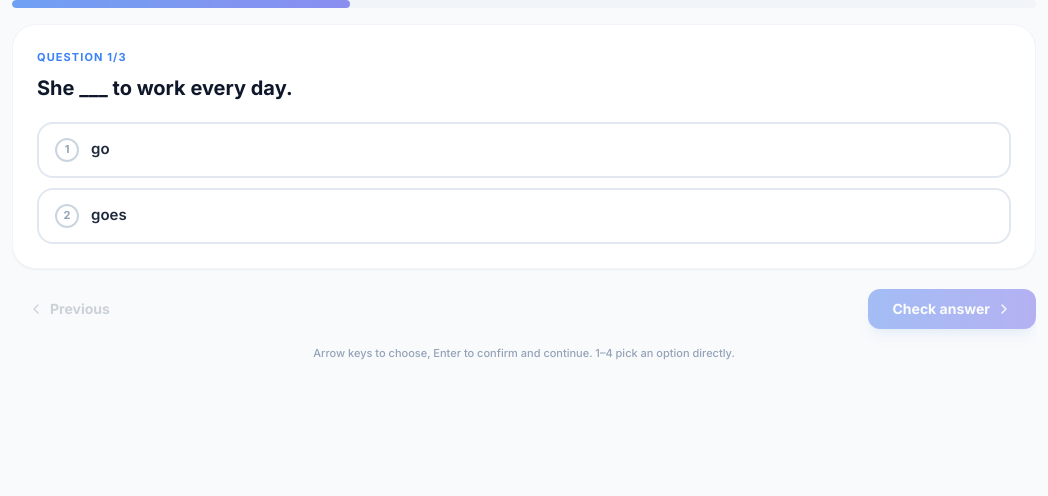
Test case: QuizStage — immediate feedback › grades one question at a time and reveals the authored explanation
Expected: the heading "She ___ to work every day." is shown, top-left (37, 76), bottom-right (293, 100)
Step 1. Click the radio button labelled "1 go" → (67, 150), box top-left (37, 122), bottom-right (1011, 178)
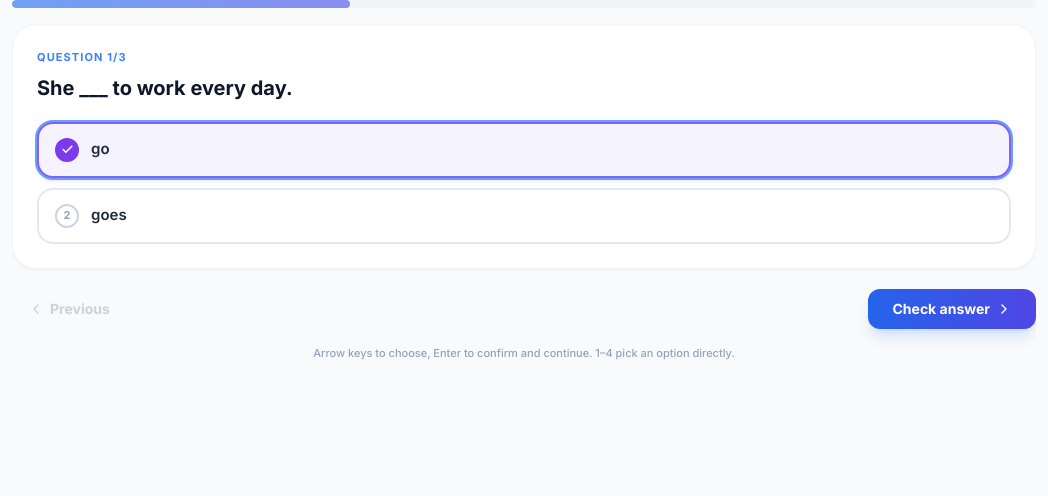
Step 2. Click the button "Check answer" → (952, 308), box top-left (868, 288), bottom-right (1036, 328)
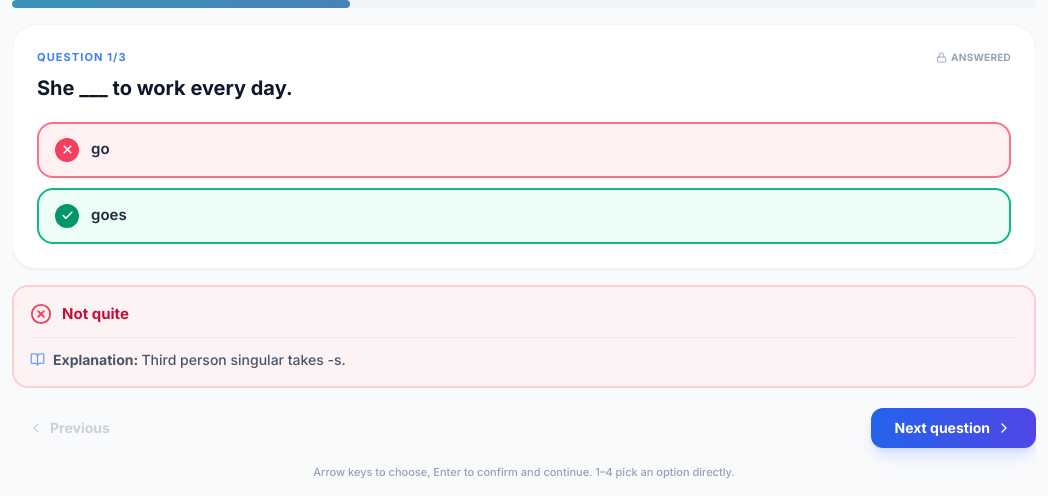
Expected: the text "Not quite" is shown, top-left (62, 302), bottom-right (129, 325)
Expected: the text "Explanation: Third person singular takes -s." is shown, top-left (53, 350), bottom-right (346, 370)
